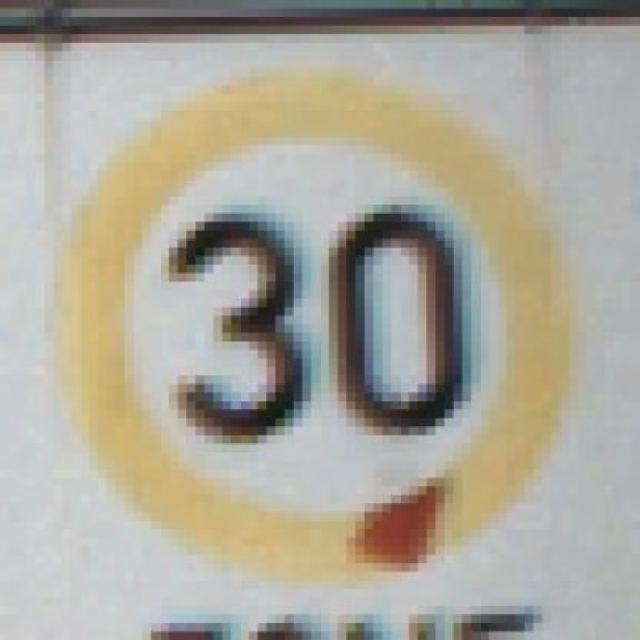Speed Limit 30 KMPh: (36, 59, 604, 581)
